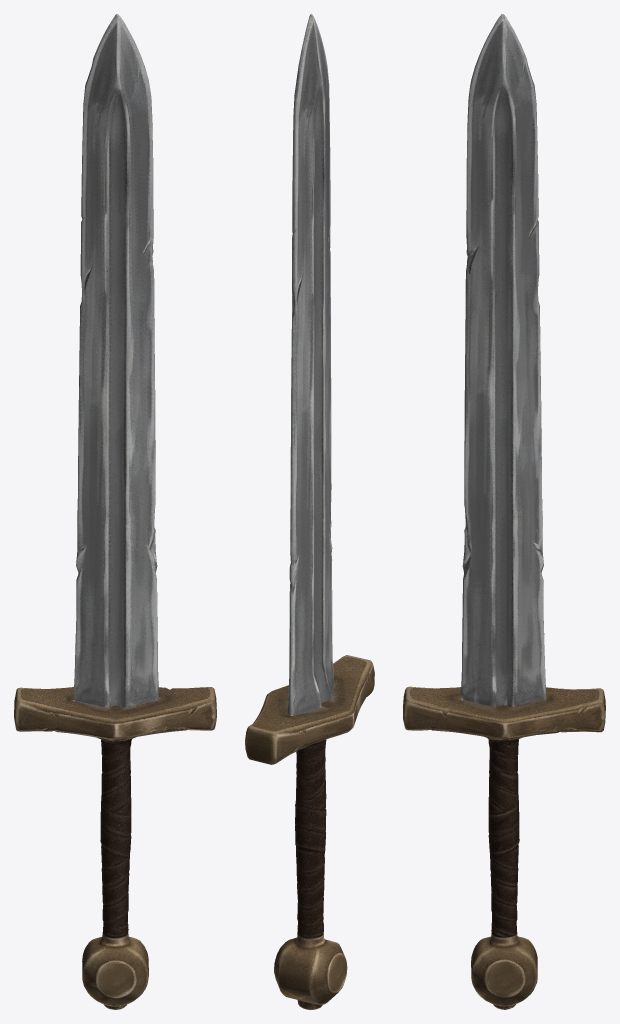
Rendered from gladiator-greatsword.glb.
3 views of the same model, side by side, from view 1: azimuth 90°, elevation 25°; view 2: azimuth 150°, elevation 25°; view 3: azimuth 270°, elevation 25° (orthographic).
Visible parts, largest first — view 1: Greatsword; view 2: Greatsword; view 3: Greatsword.
Part boxes in pixels (bbox=[...]): Greatsword: bbox=[14, 14, 216, 1009]; Greatsword: bbox=[245, 14, 374, 1009]; Greatsword: bbox=[403, 14, 605, 1009].
Bounding box in the file's own units: 0.123 × 1.35 × 0.25.
1 material, 1 textured.
